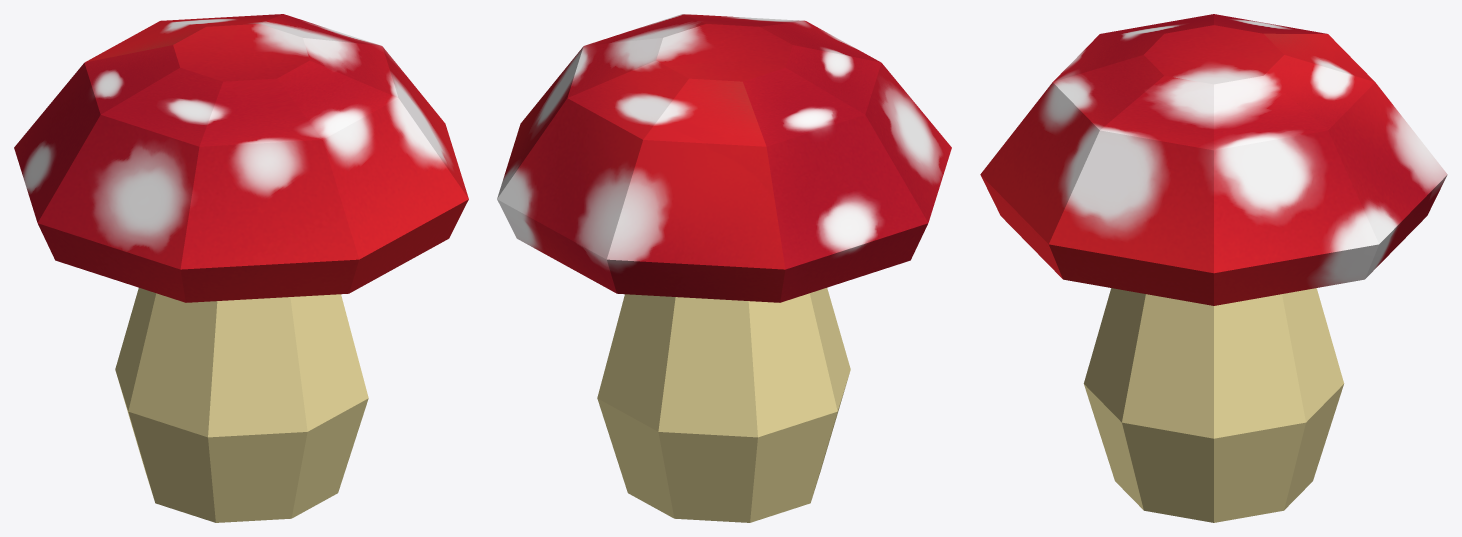
File: mushroom2.obj
3 views of the same model, side by side, from view 1: azimuth 30°, elevation 25°; view 2: azimuth 150°, elevation 25°; view 3: azimuth 270°, elevation 25° (orthographic).
Parts seen in each view (by area): view 1: mushroom2_Circle.009; view 2: mushroom2_Circle.009; view 3: mushroom2_Circle.009.
Boxes of the visible parts, x1,y1,x2,y2 form: mushroom2_Circle.009: [14, 14, 468, 522]; mushroom2_Circle.009: [497, 14, 951, 522]; mushroom2_Circle.009: [980, 14, 1447, 522].
Bounding box in the file's own units: 0.366 × 0.3683 × 0.366.
